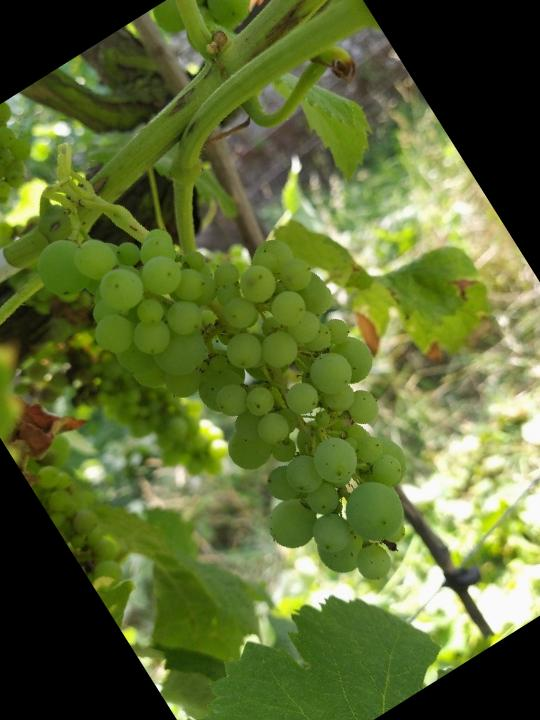grape: (25, 128, 478, 650)
